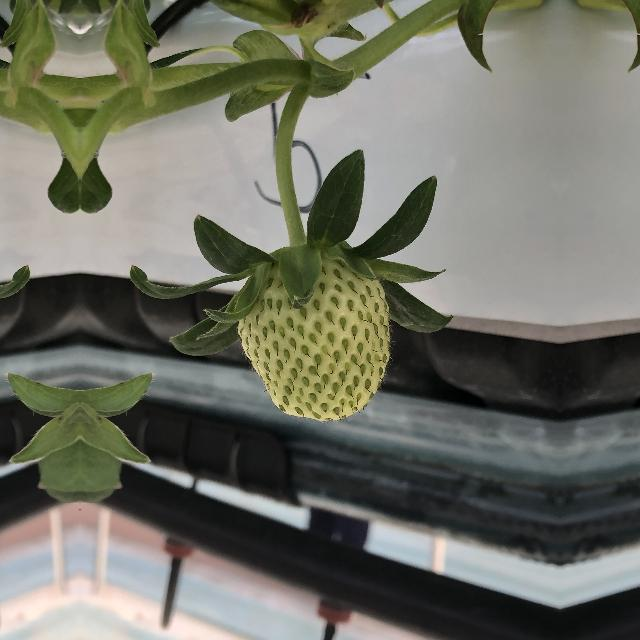Health_25: (236, 241, 392, 423)
